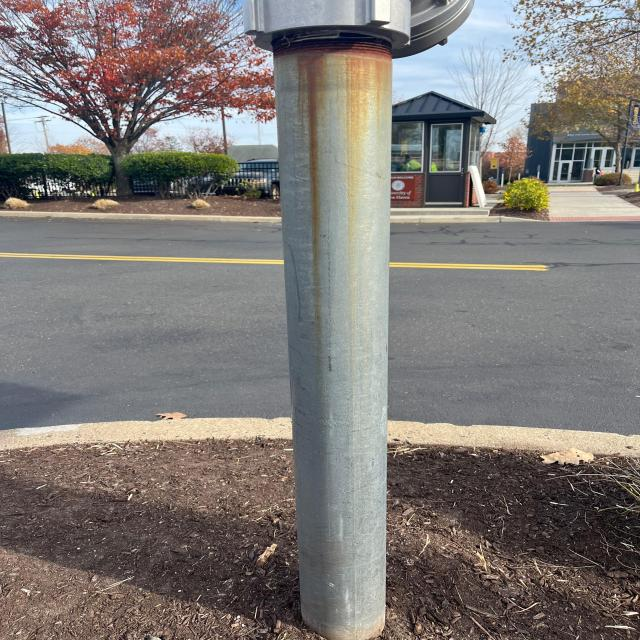Crevice Corrosion: (268, 30, 402, 337)
